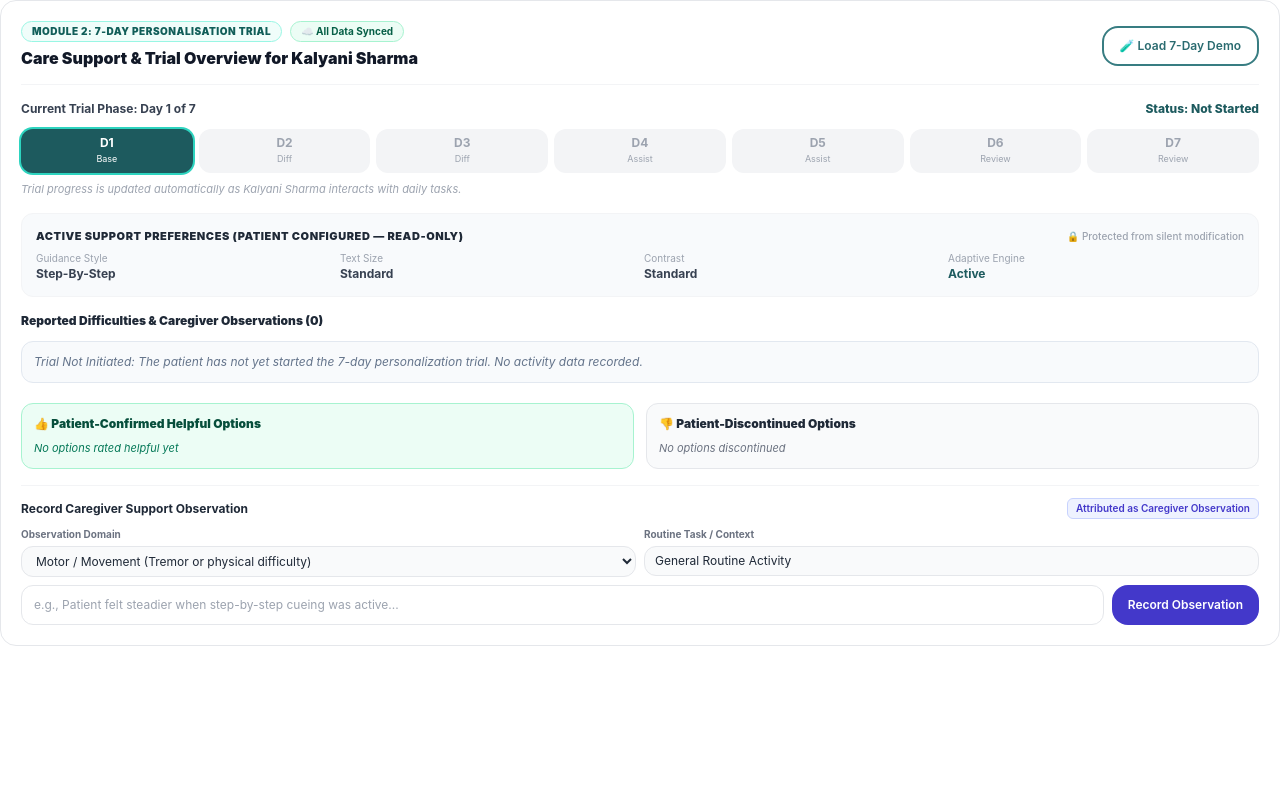
Test: Module 7: Caregiver Dashboard & Trial Overview Component › records support observation note via audit form
Replace the text in the field with placeholder "Patient felt steadier" with "Patient responded well to visual timing cues.". click: (562, 605)
box: [21,585,1104,625]
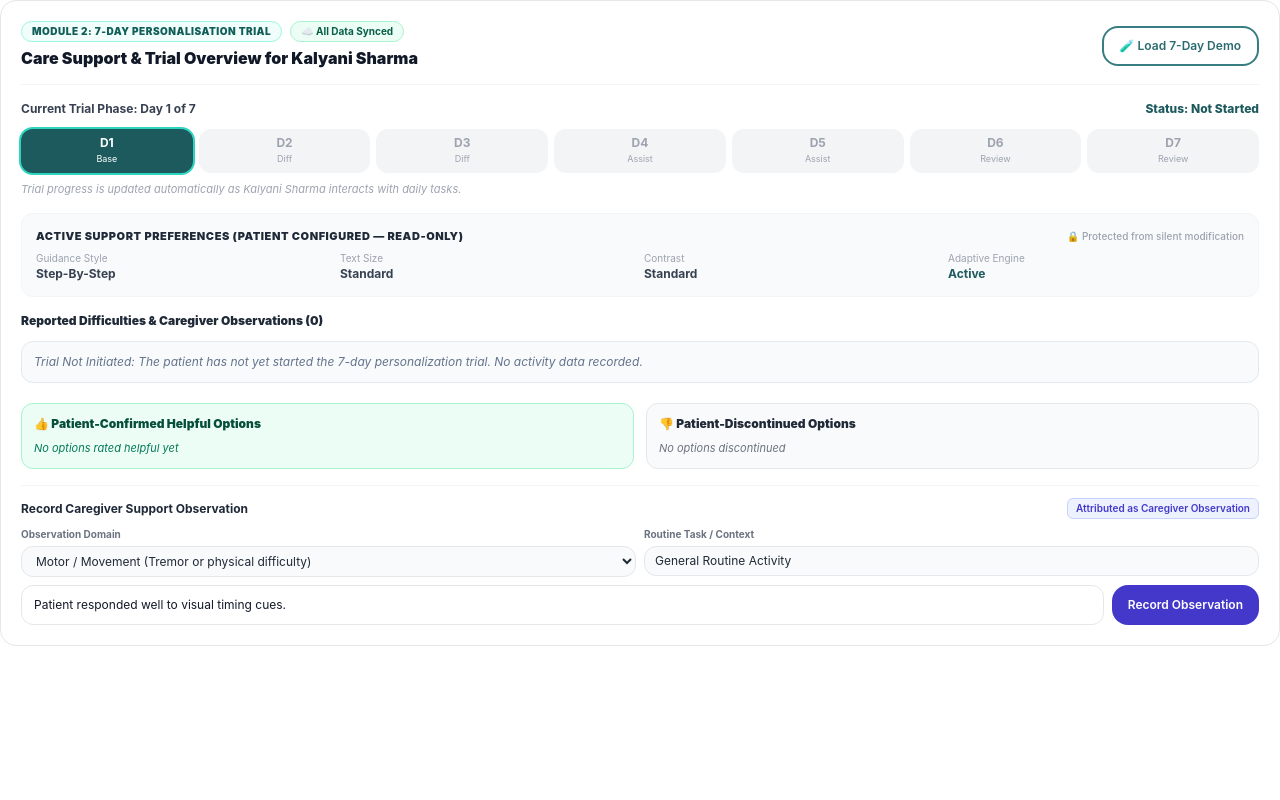
Click the button "Record Observation". click: (1185, 605)
box: [1112,585,1259,625]
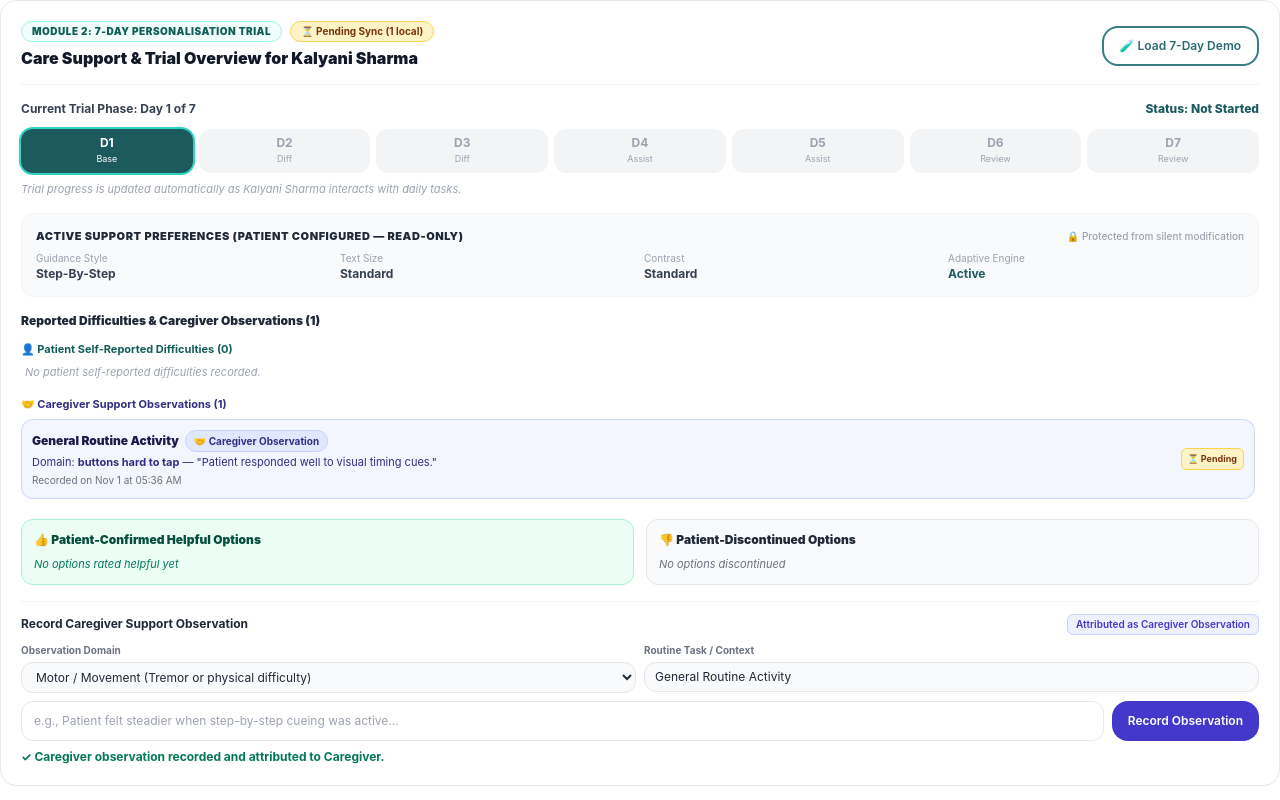
Result: the text "Caregiver observation recorded and attributed to Caregiver" is shown at [21,749,384,764]
